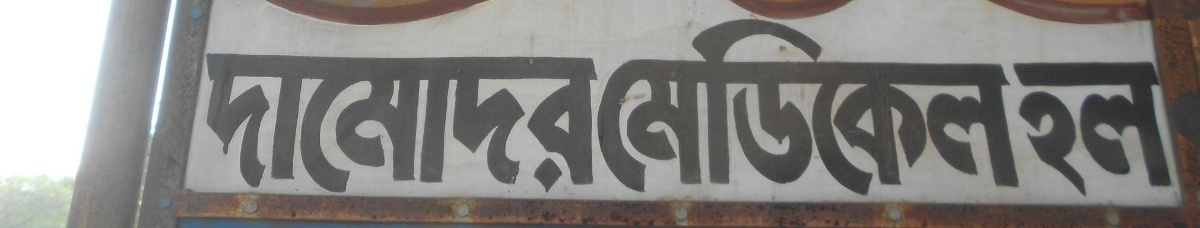text: (609, 14, 624, 197), (625, 14, 640, 197), (641, 14, 656, 197), (657, 14, 672, 197), (673, 14, 688, 197), (689, 14, 704, 197), (705, 14, 720, 197), (721, 14, 736, 197), (737, 14, 752, 197), (753, 14, 768, 197), (769, 14, 784, 197), (785, 14, 800, 197), (801, 14, 816, 197), (817, 14, 832, 197), (833, 14, 848, 197), (849, 14, 864, 197), (865, 14, 880, 197), (881, 14, 896, 197), (897, 14, 912, 197), (913, 14, 928, 197), (929, 14, 944, 197), (945, 14, 960, 197), (961, 14, 976, 197), (977, 14, 992, 197), (993, 14, 1008, 197), (595, 14, 608, 197), (1009, 14, 1022, 197), (209, 53, 224, 204), (225, 53, 240, 204), (241, 53, 256, 204), (257, 53, 272, 204), (273, 53, 288, 204), (289, 53, 304, 204), (305, 53, 320, 204), (321, 53, 336, 204), (337, 53, 352, 204), (353, 53, 368, 204), (369, 53, 384, 204), (385, 53, 400, 204), (401, 53, 416, 204), (417, 53, 432, 204), (433, 53, 448, 204), (449, 53, 464, 204), (465, 53, 480, 204), (481, 53, 496, 204), (497, 53, 512, 204), (513, 53, 528, 204), (529, 53, 544, 204), (545, 53, 560, 204), (561, 53, 576, 204), (577, 53, 592, 204), (1025, 60, 1040, 197), (1041, 60, 1056, 197), (1057, 60, 1072, 197), (1073, 60, 1088, 197), (1089, 60, 1104, 197), (1105, 60, 1120, 197), (1121, 60, 1136, 197), (1137, 60, 1152, 197), (1153, 60, 1168, 197), (1012, 60, 1024, 197), (1169, 60, 1181, 197), (593, 53, 600, 204), (273, 1, 288, 30), (289, 1, 304, 30), (305, 1, 320, 30), (321, 1, 336, 30), (337, 1, 352, 30), (353, 1, 368, 30), (369, 1, 384, 30), (385, 1, 400, 30), (401, 1, 416, 30), (417, 1, 432, 30), (433, 1, 448, 30), (449, 1, 464, 30), (465, 1, 480, 30), (481, 1, 495, 30), (1009, 3, 1024, 27), (1025, 3, 1040, 27), (1041, 3, 1056, 27), (1057, 3, 1072, 27), (1073, 3, 1088, 27), (1089, 3, 1104, 27), (1105, 3, 1120, 27), (1121, 3, 1136, 27), (1137, 3, 1152, 27), (994, 3, 1008, 27), (206, 53, 208, 204), (262, 1, 272, 30), (737, 2, 752, 18), (753, 2, 768, 18), (769, 2, 784, 18), (785, 2, 800, 18), (801, 2, 816, 18), (817, 2, 832, 18), (833, 2, 848, 18), (849, 2, 863, 18), (1153, 3, 1160, 27), (728, 2, 736, 18)
